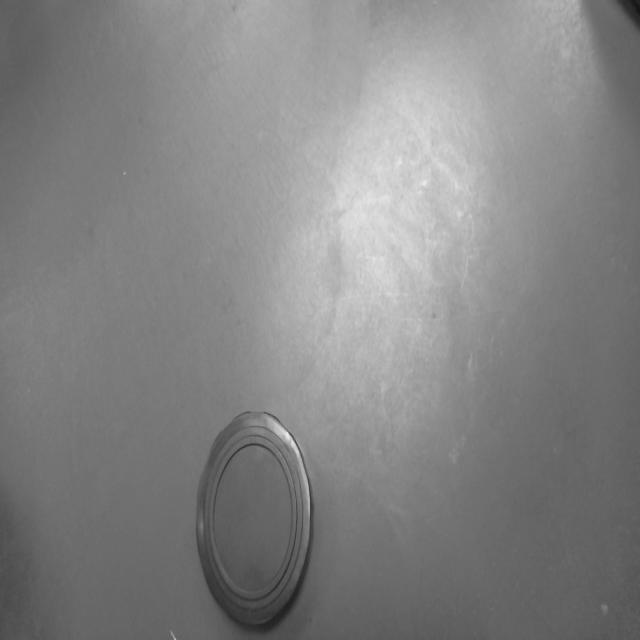cover: (189, 400, 320, 639)
